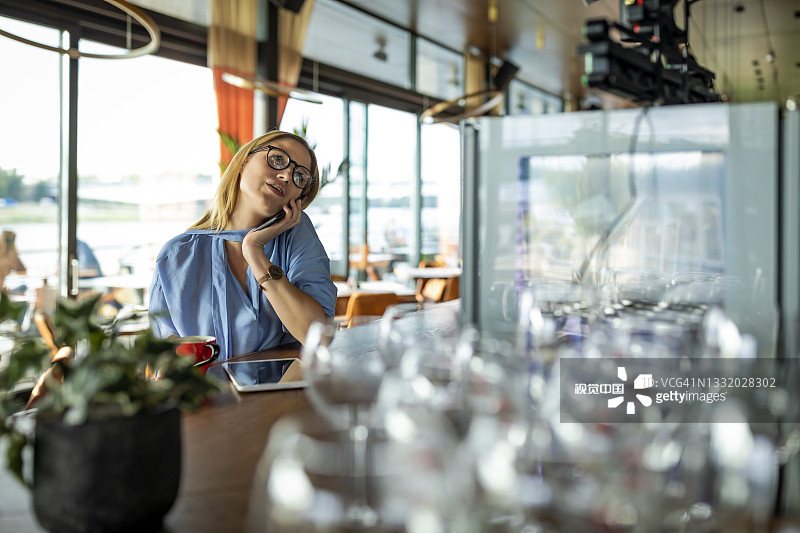calling: (229, 194, 319, 272)
